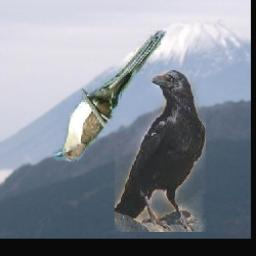Crow: (114, 70, 205, 232)
Cuckoo: (52, 25, 167, 162)
